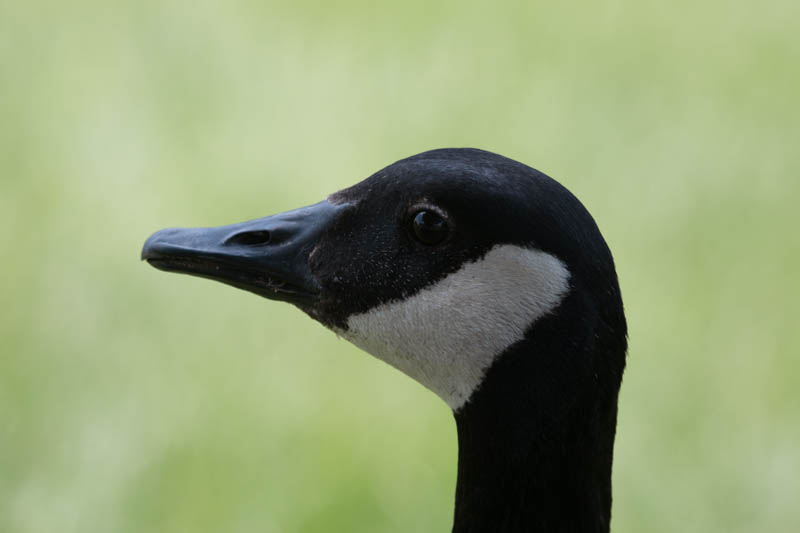goose-head: (141, 148, 628, 418)
